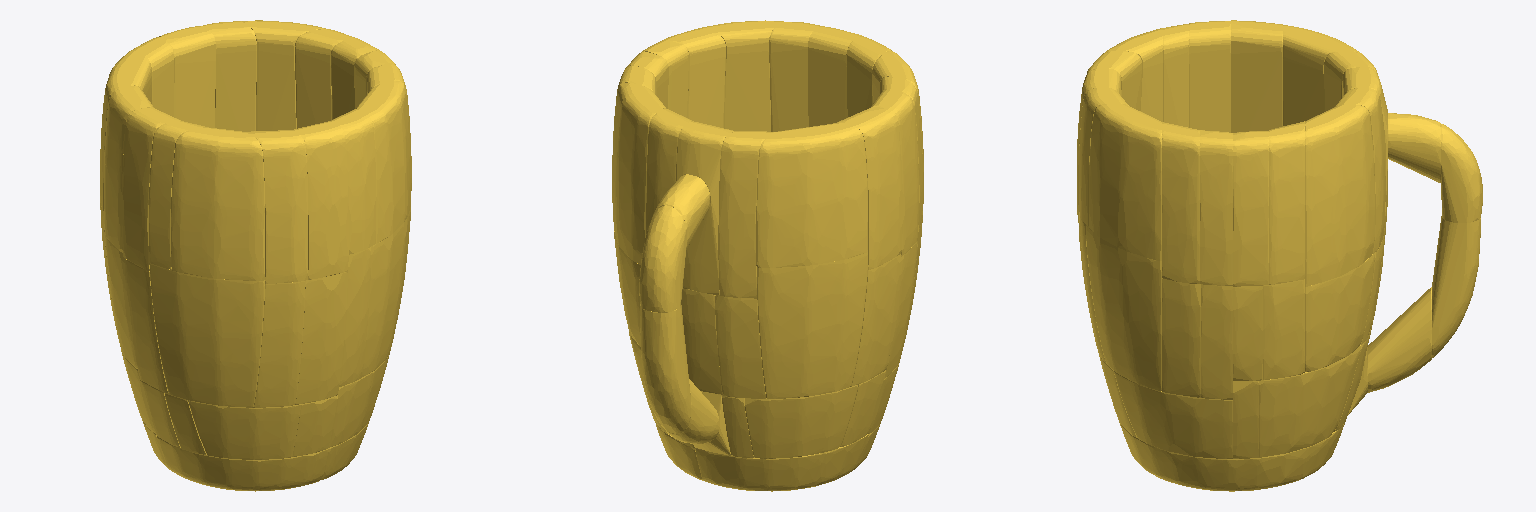
The robot description file, URDF, robot "663.urdf":
<?xml version="1.0" ?>
<robot name="663.urdf">
	<link name="baseLink">
		<inertial>
			<origin rpy="0 0 0" xyz="0 0 0"/>
				<mass value="0.1"/>
				<inertia ixx="6e-5" ixy="0" ixz="0" iyy="6e-5" iyz="0" izz="6e-5"/>
		</inertial>
		<visual>
			<origin rpy="0 0 0" xyz="0 0 0"/>
			<geometry>
				<mesh filename="10_decom_wt.obj" scale="0.87 0.87 0.96"/>
			</geometry>
			<material name="yellow">
				<color rgba="0.98 0.84 0.35 1"/>
			</material>
		</visual>
		<collision>
			<origin rpy="0 0 0" xyz="0 0 0"/>
			<geometry>
				<mesh filename="10_decom_wt.obj" scale="0.87 0.87 0.96"/>
			</geometry>
		</collision>
	</link>
</robot>

--- What the picture shows (computed from the rendered views, not written in the file) ---
3 views of the same robot in one strip: view 1: azimuth 30°, elevation 25°; view 2: azimuth 150°, elevation 25°; view 3: azimuth 270°, elevation 25° (orthographic).
Model 663.urdf with 1 links and 0 joints (none), rooted at baseLink, posed all joints at 0.
Visible links, largest first — view 1: baseLink; view 2: baseLink; view 3: baseLink.
Boxes of the visible links, bbox=[...] form: baseLink: bbox=[100, 20, 411, 491]; baseLink: bbox=[612, 20, 923, 491]; baseLink: bbox=[1077, 20, 1482, 491].
Size in the robot's own frame: 0.0851 by 0.1112 by 0.1125 metres.
1 mesh visuals loaded from 1 distinct referenced files (1 OBJ).